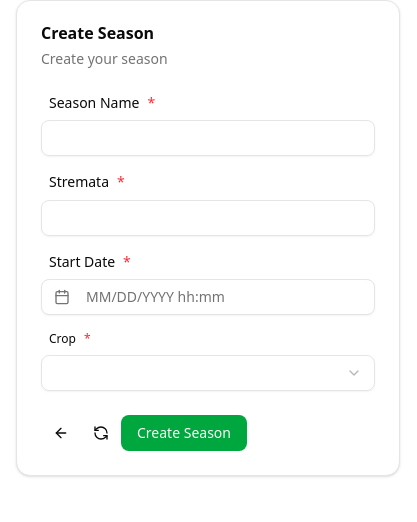
Test: CreateSeasonForm Tests › Area invalid number error
The image size is (417, 522).
Type "abc" into the field labelled "Stremata *" at (208, 218), box [41,200,375,236]
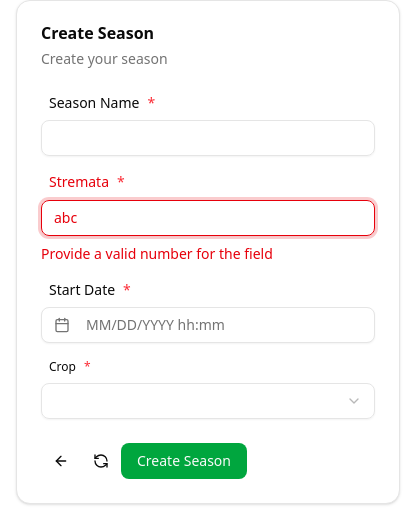
Expected: the text "Provide a valid number for the field" is shown, [41,244,273,262]
